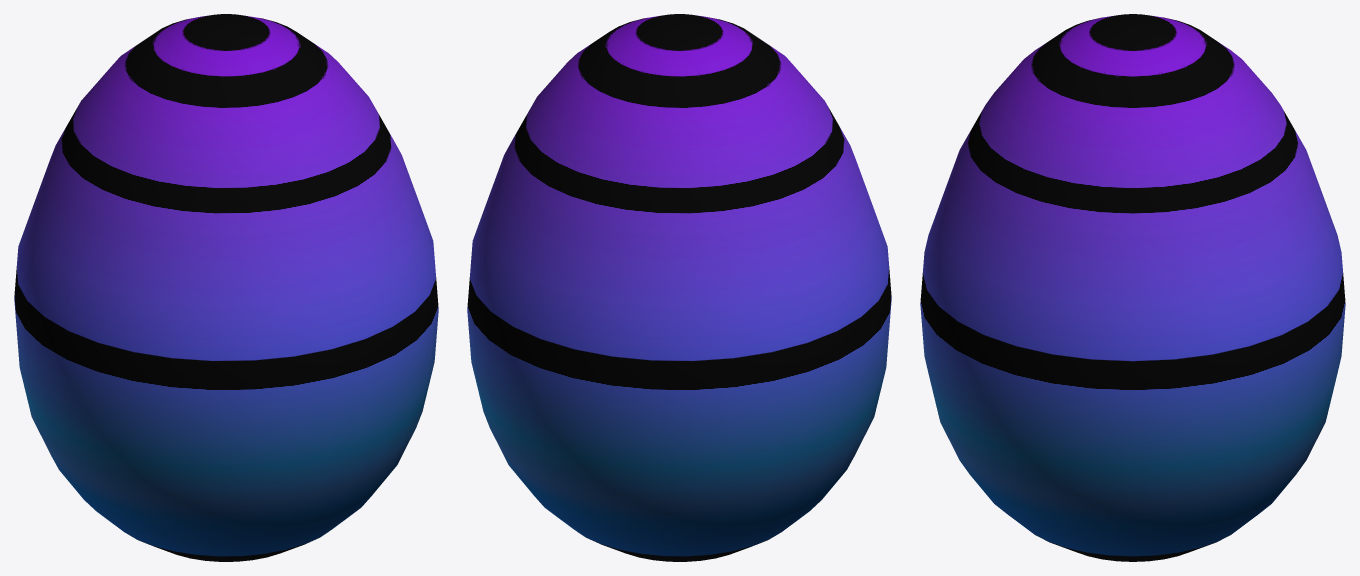
The model's file is egg04.glb.
3 renders of one model, left to right at view 1: azimuth 30°, elevation 25°; view 2: azimuth 150°, elevation 25°; view 3: azimuth 270°, elevation 25°, orthographic.
Parts seen in each view (by area): view 1: Sphere001; view 2: Sphere001; view 3: Sphere001.
Part boxes in pixels (bbox=[...]): Sphere001: bbox=[14, 14, 438, 561]; Sphere001: bbox=[467, 14, 891, 561]; Sphere001: bbox=[920, 14, 1345, 561].
Bounding box in the file's own units: 0.7237 × 0.9744 × 0.7237.
Materials: 1 (1 with a texture image).
